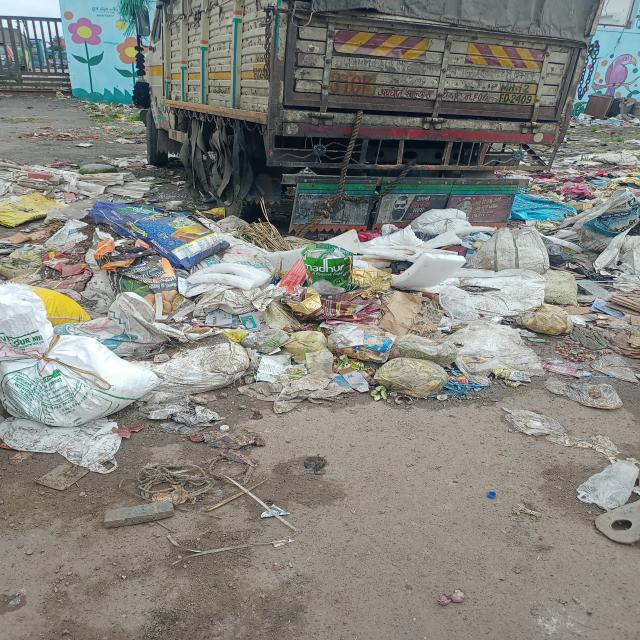garbage: (262, 219, 640, 412), (8, 163, 246, 440), (512, 153, 640, 221)
